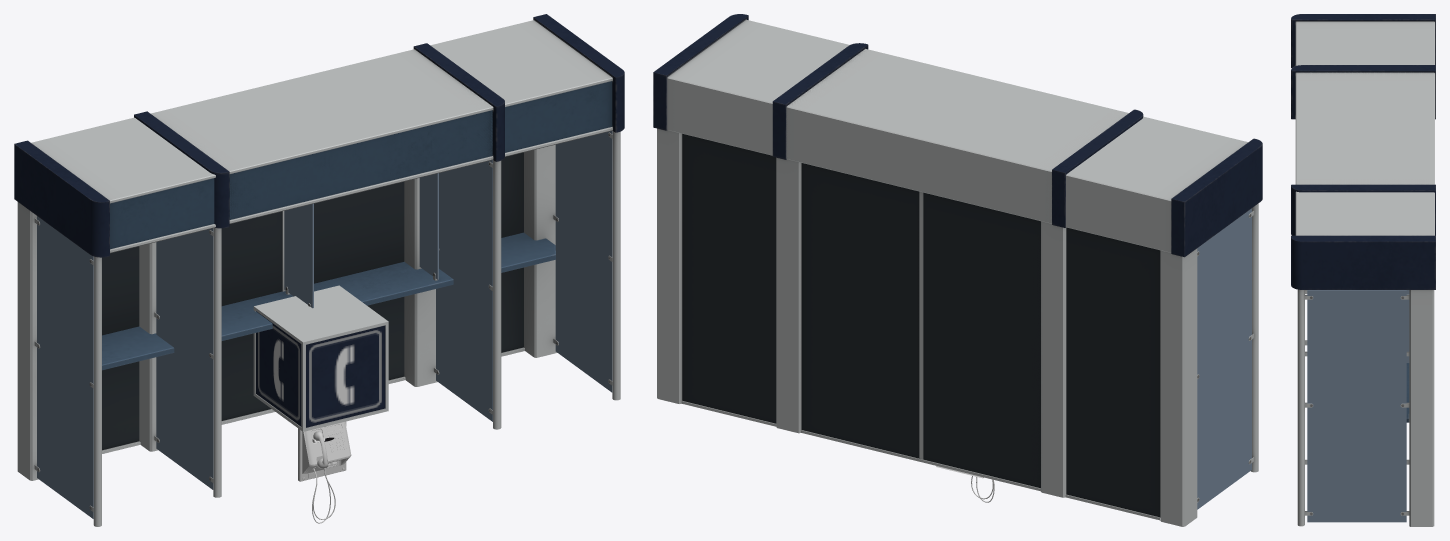
Rendered from payphone_0001.fbx.
3 views of the same model, side by side, from view 1: azimuth 30°, elevation 25°; view 2: azimuth 150°, elevation 25°; view 3: azimuth 270°, elevation 25° (orthographic). The views are drawn at different scales.
Parts seen in each view (by area): view 1: phoneblock_big, phoneblock_small, phoneblock_big_glass, phoneblock_small_glass, phoneblock_sign, phone_01; view 2: phoneblock_big, phoneblock_small, phoneblock_big_glass; view 3: phoneblock_big, phoneblock_big_glass, phoneblock_small.
Boxes of the visible parts, x1,y1,x2,y2 form: phoneblock_big: (14,14,624,526); phoneblock_small: (134,43,504,497); phoneblock_big_glass: (37,131,612,518); phoneblock_small_glass: (156,160,492,489); phoneblock_sign: (253,285,388,441); phone_01: (298,421,351,519); phoneblock_big: (653,14,1262,526); phoneblock_small: (772,43,1143,497); phoneblock_big_glass: (1197,208,1251,509); phoneblock_big: (1291,14,1435,526); phoneblock_big_glass: (1307,290,1409,522); phoneblock_small: (1291,65,1435,464).
Size of the model in its own units: 4.26 by 3.07 by 1.15.
